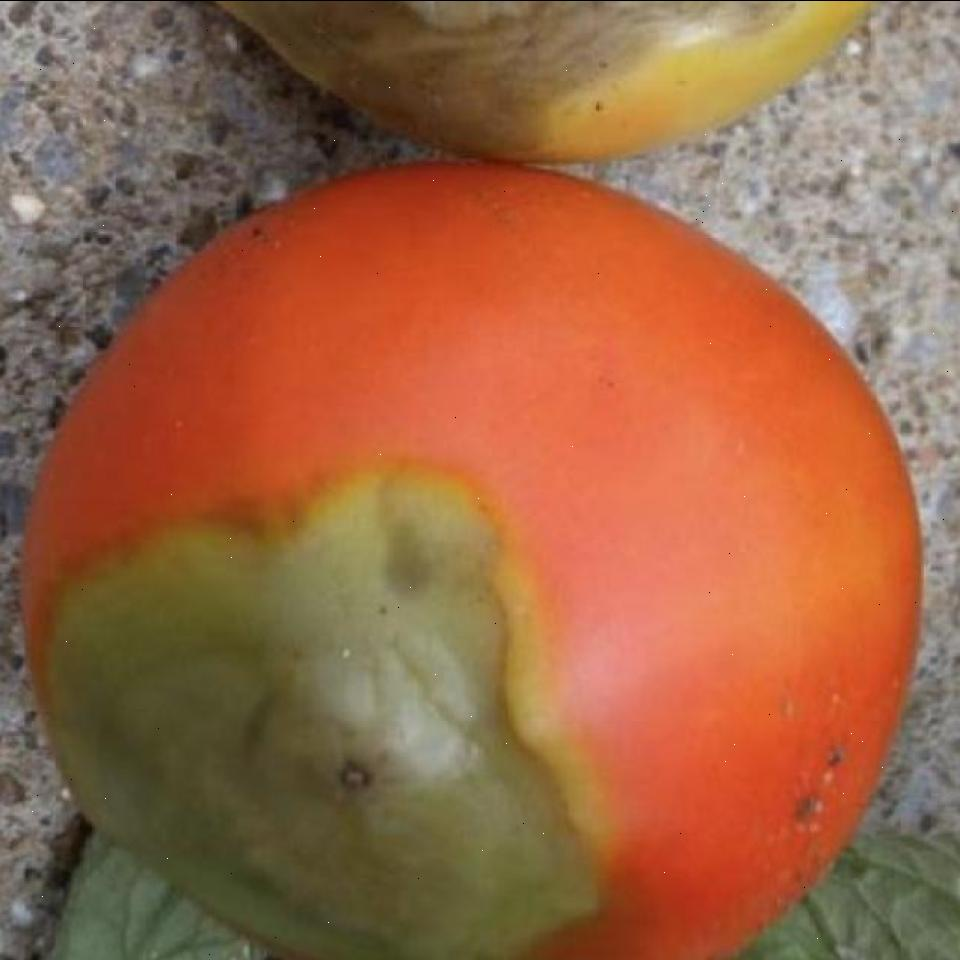Blossom_end_rot: (40, 456, 614, 956), (229, 0, 810, 148)
